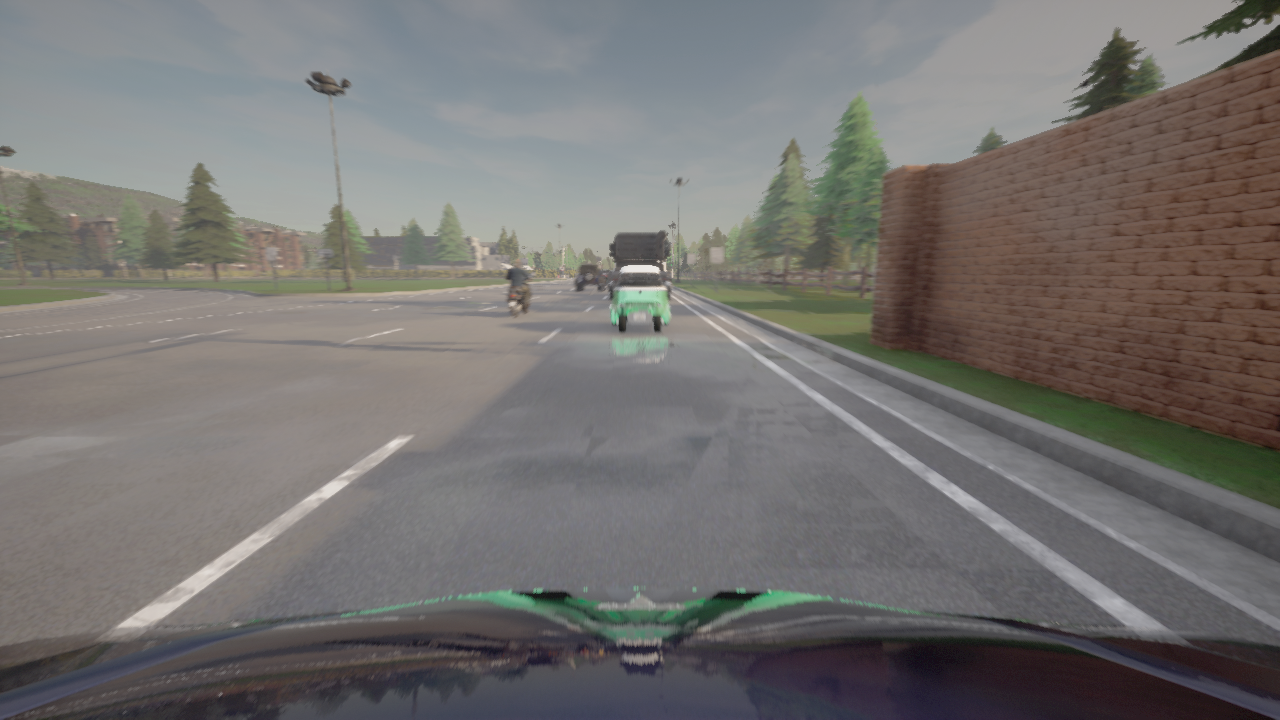cyclist: (0, 588, 1279, 719), (609, 230, 670, 299), (608, 266, 671, 332), (506, 272, 534, 316), (575, 263, 605, 290), (600, 270, 609, 283)
